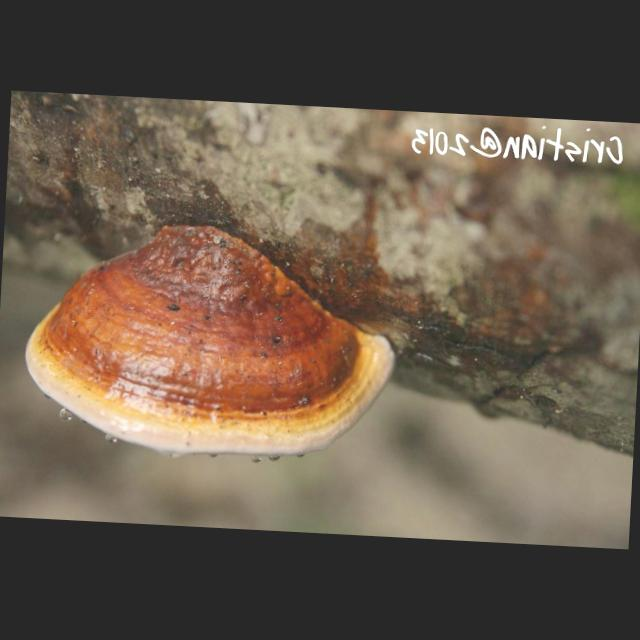ganoderma: (18, 211, 406, 475)
